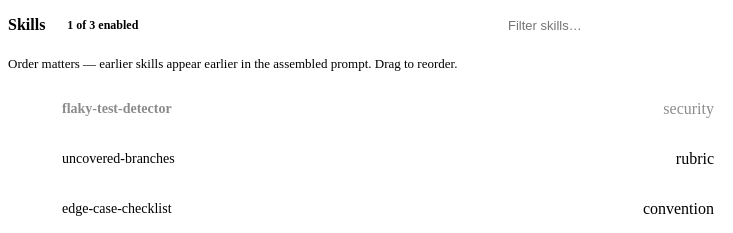
Scenario: agent SkillsTab › filters rows by name
The image size is (733, 233).
Type "edge" into the field with placeholder "Filter skills…" at [611, 25], box [506,17,716,34]
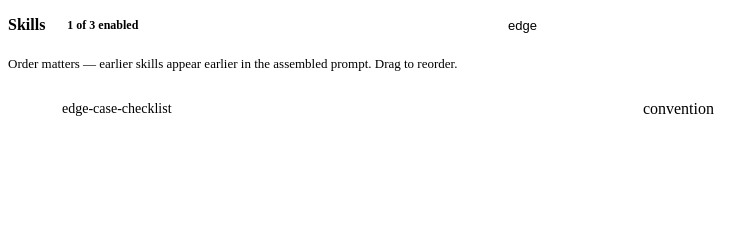
Expected: the number of list items is 1, [34,100,714,116]
